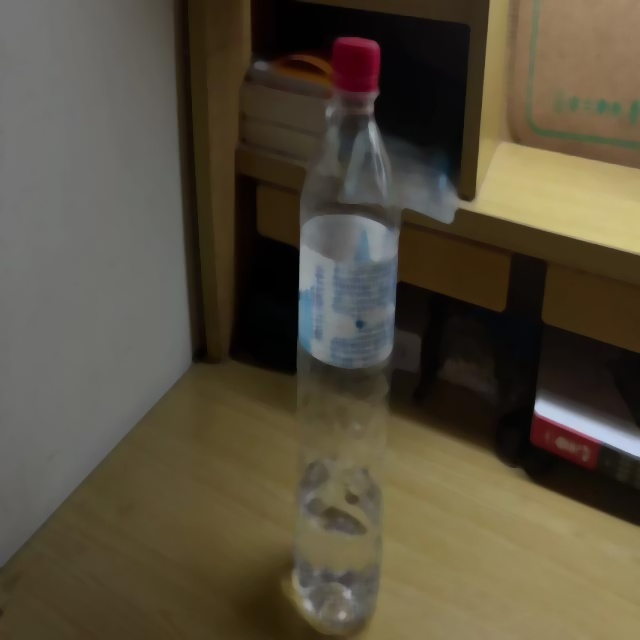Water: (292, 36, 402, 639)
